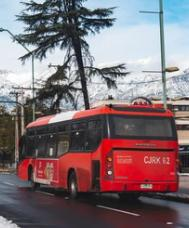vehicle: (17, 102, 179, 199)
